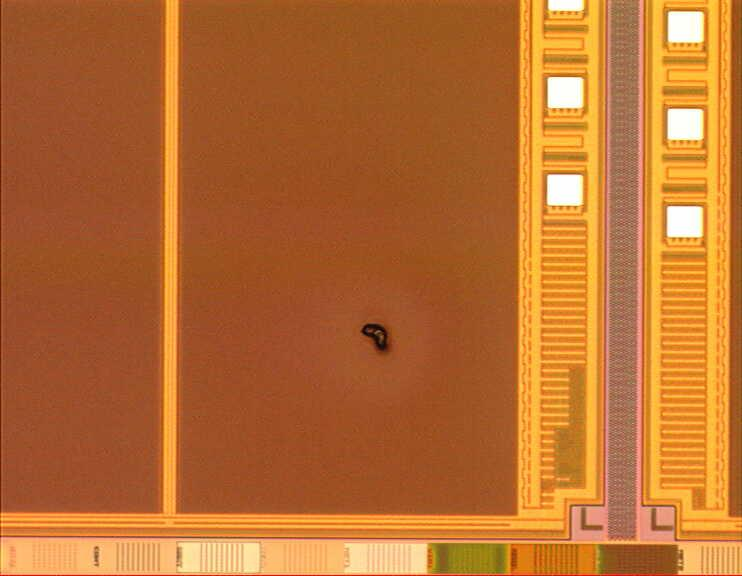PIQ PARTICLE: (353, 319, 394, 356)
